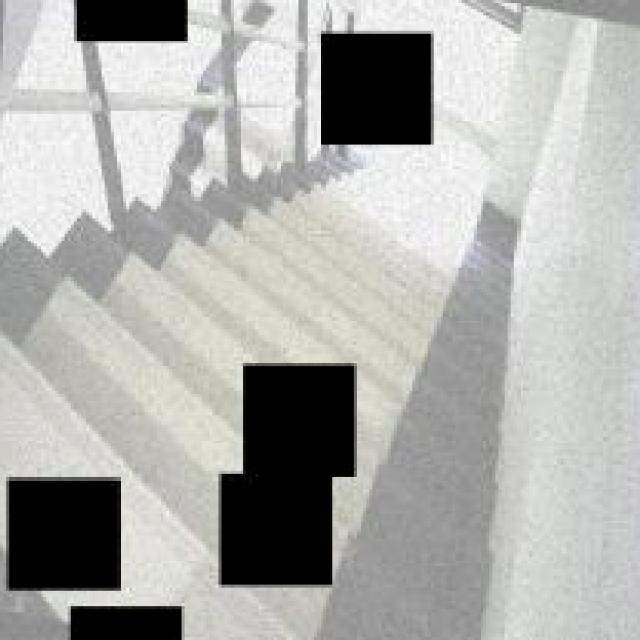downstair: (1, 293, 213, 465), (287, 195, 481, 355)
